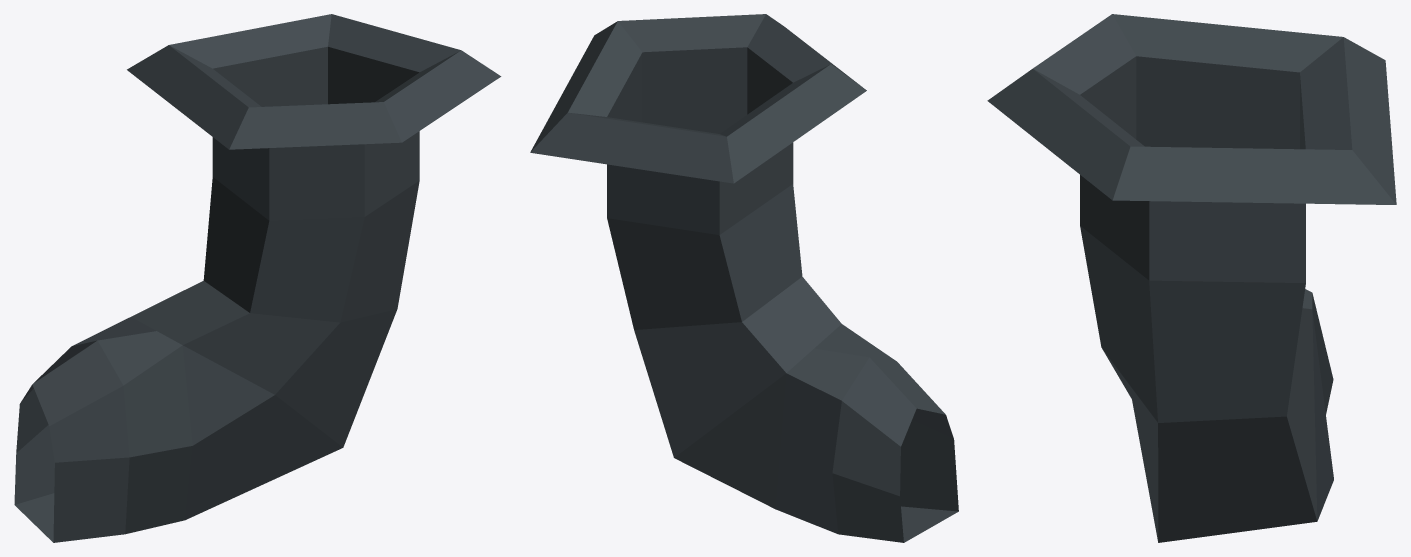
The model's file is Tunnel-F08.fbx.
3 views of the same model, side by side, from view 1: azimuth 30°, elevation 25°; view 2: azimuth 150°, elevation 25°; view 3: azimuth 270°, elevation 25° (orthographic). The views are drawn at different scales.
Visible parts, largest first — view 1: Tunnel-F08; view 2: Tunnel-F08; view 3: Tunnel-F08.
Boxes of the visible parts, x1,y1,x2,y2 form: Tunnel-F08: (14,14,501,542); Tunnel-F08: (530,14,958,542); Tunnel-F08: (987,14,1396,542).
Size of the model in its own units: 831 by 817 by 581.
